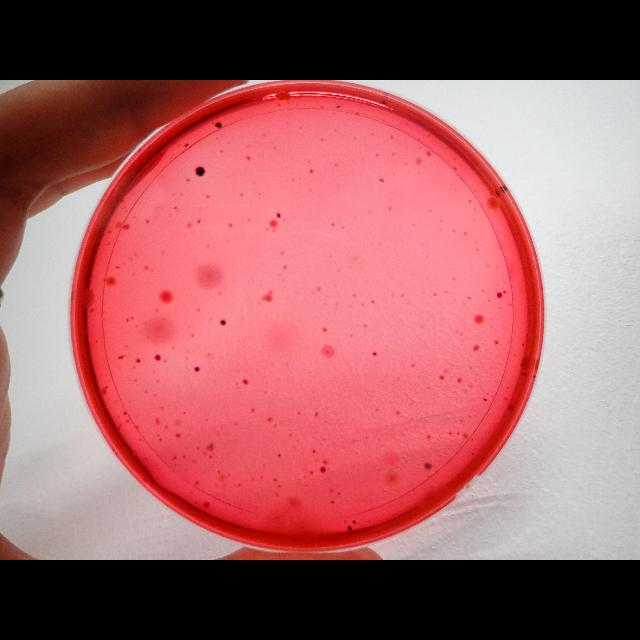colony: (422, 458, 434, 474), (193, 166, 207, 177), (213, 120, 223, 130), (219, 318, 227, 327), (496, 290, 502, 300), (319, 466, 326, 474), (371, 349, 377, 358), (193, 366, 201, 372), (154, 354, 160, 362), (347, 524, 353, 532), (352, 518, 358, 526), (275, 211, 281, 219), (135, 358, 141, 364)
